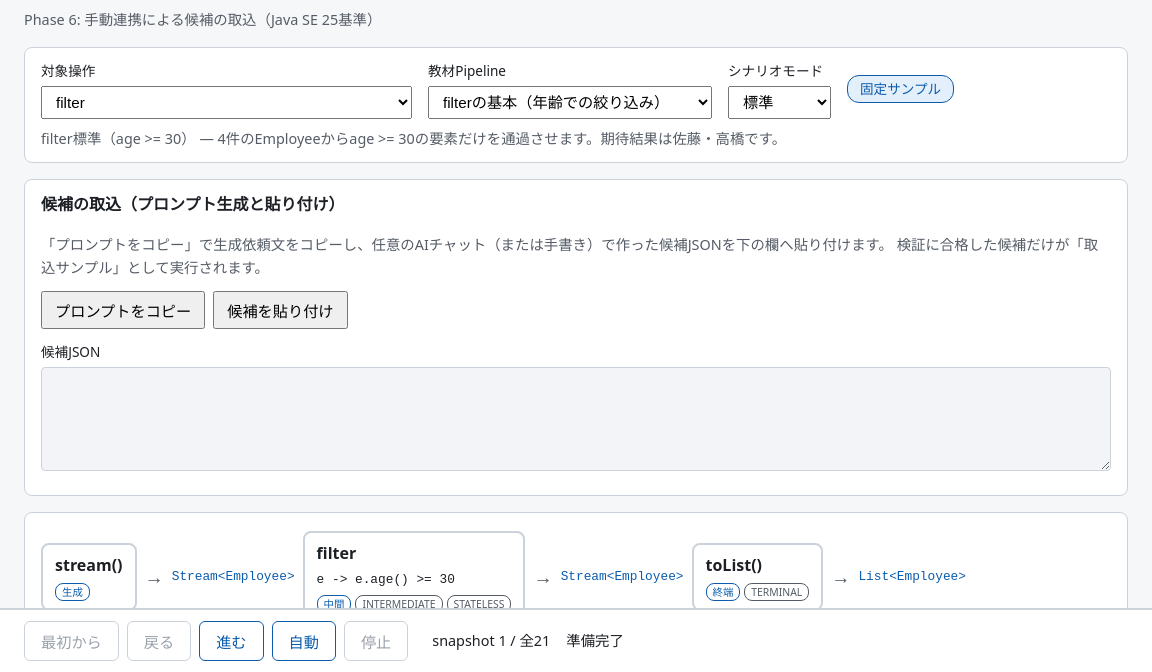
Test case: P7-R01 Gatherer構造パネル › P7-R01: scanのfinisher行は「終端での追加産出なし」の意味論を表示する
This screenshot has width=1152, height=672.
Step 1. Select "gather" in the dropdown with test id "operation-select" → (226, 102), box 41,86 -> 412,119
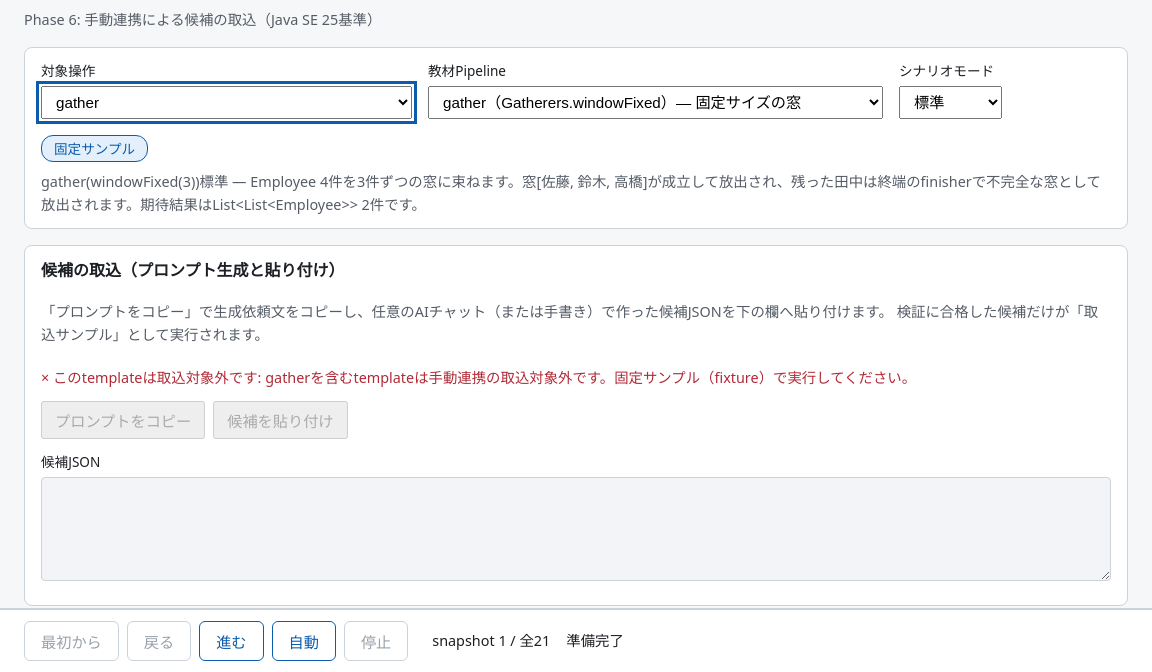
Step 2. Select "gather（Gatherers.scan）— 累積値の逐次放出" in the dropdown with test id "template-select" → (656, 102), box 428,86 -> 883,119
(page scrolled)
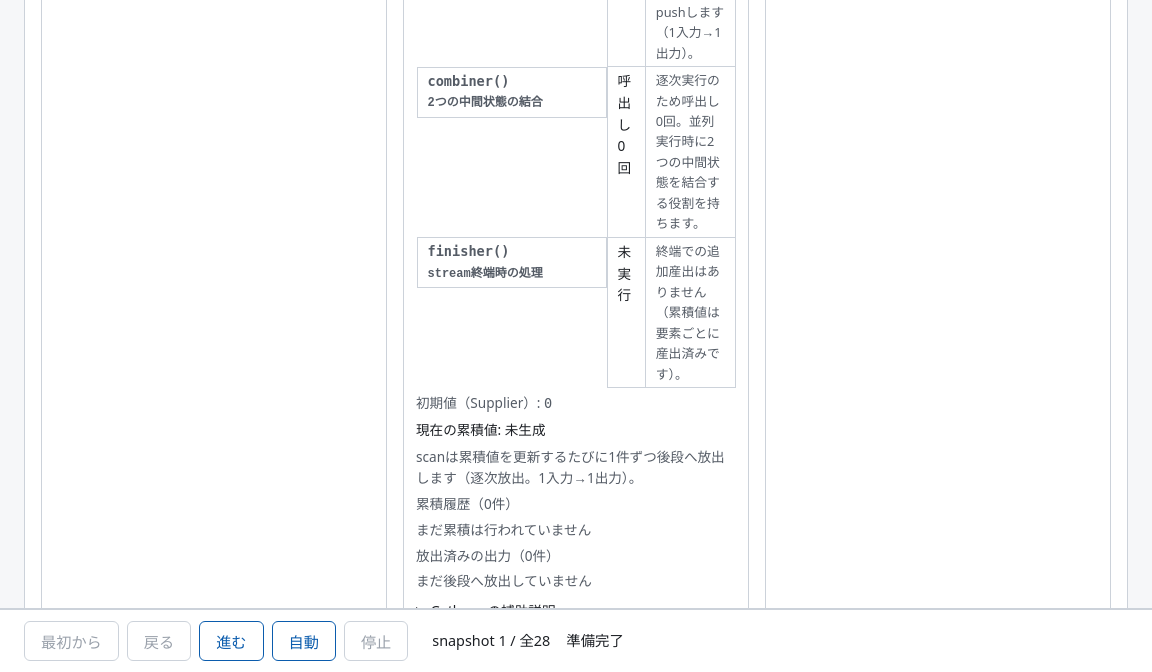
expect the row with test id "gatherer-element-finisher" shows "終端での追加産出はありません": met, box 656,242 -> 720,383
